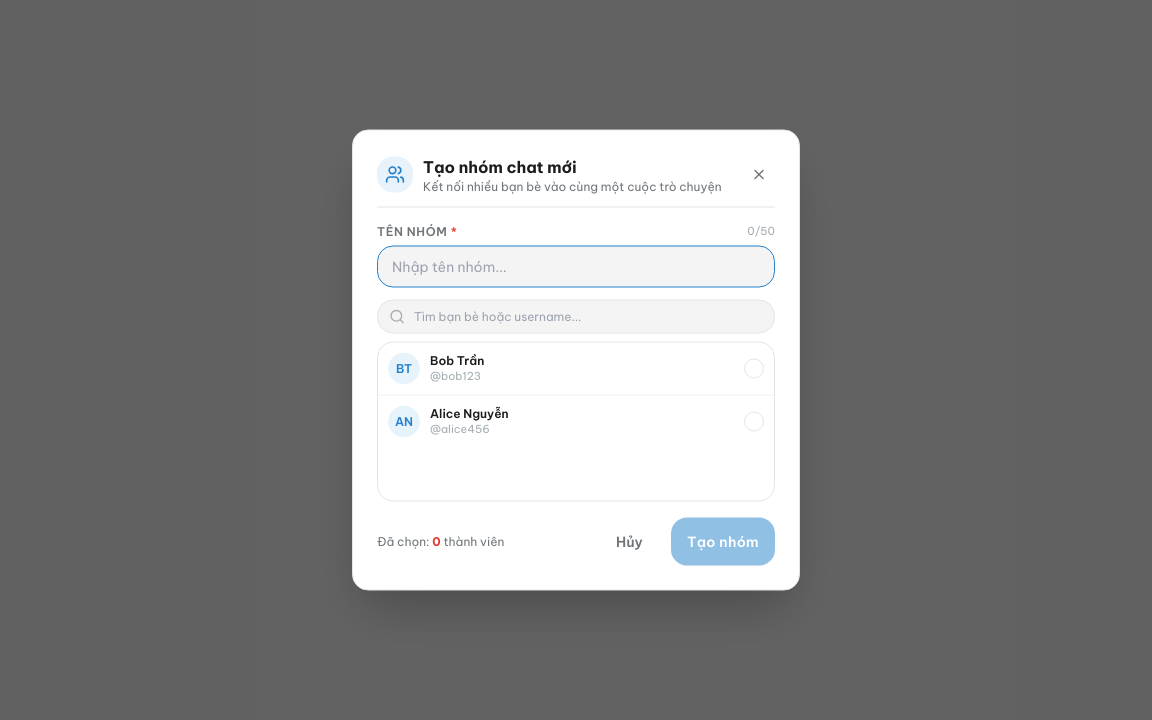
Test: CreateGroupModal Component Tests › searches for users across the system when typing in search input
In the field with test id "member-search-input": (576, 316) [377,300,775,334], type "david"
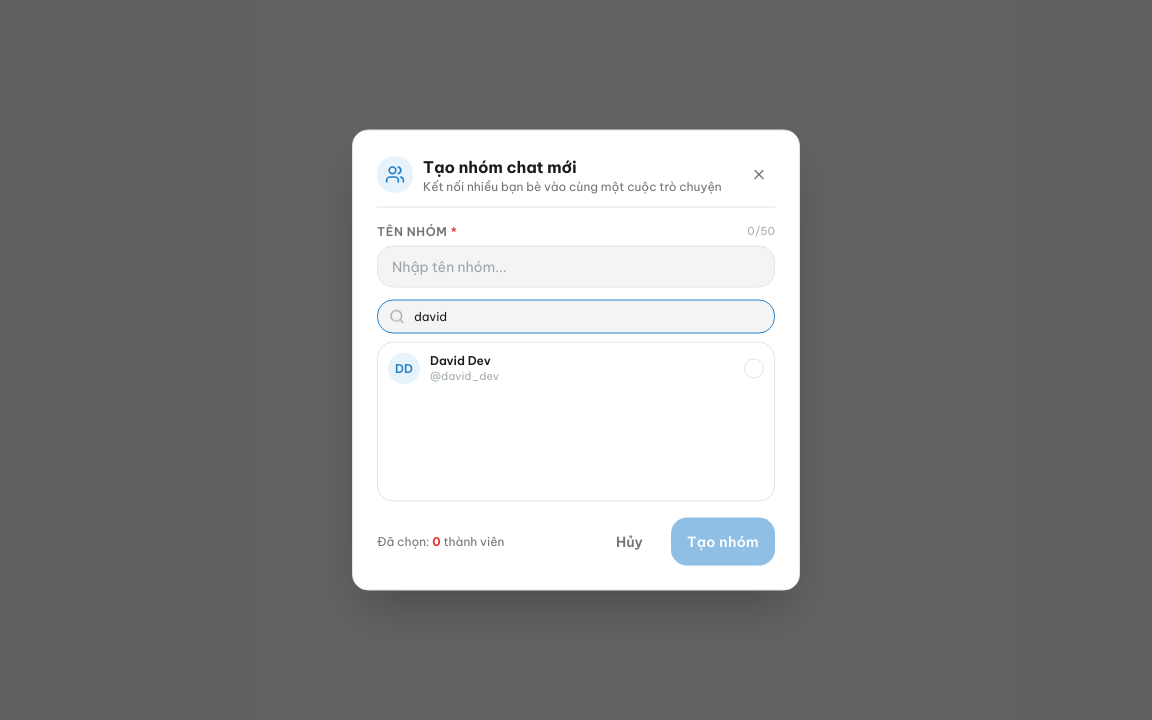
Expected: the text "David Dev" is shown, [430,352,499,368]
